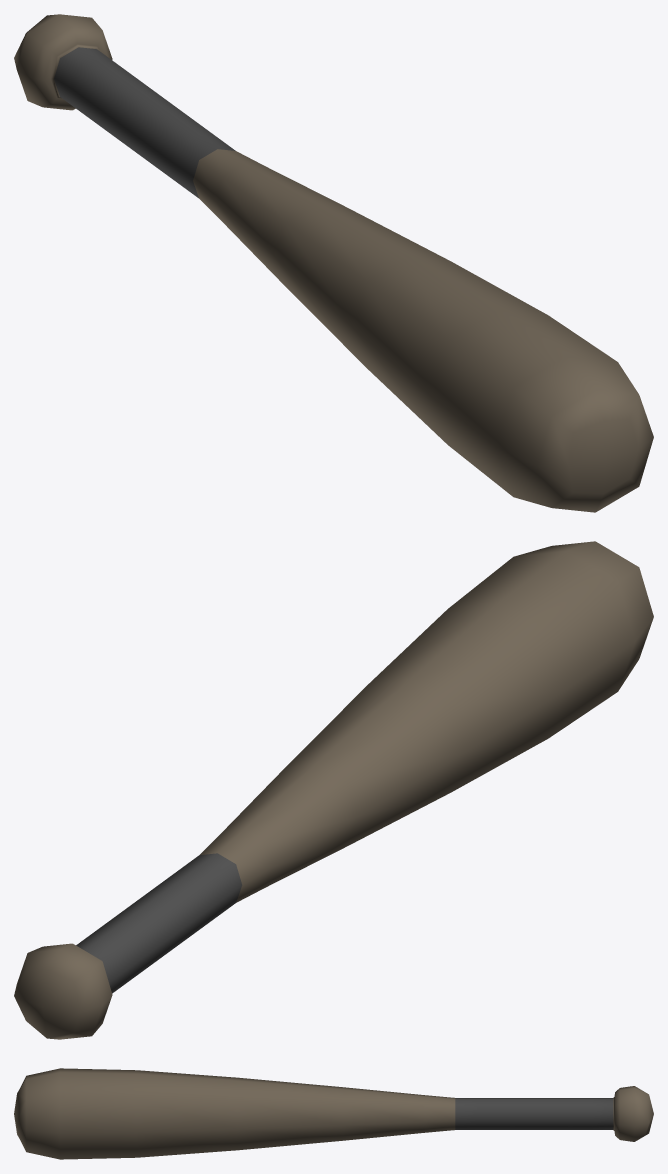
Rendered from Bat.fbx.
3 renders of one model, top to bottom at view 1: azimuth 30°, elevation 25°; view 2: azimuth 150°, elevation 25°; view 3: azimuth 270°, elevation 25°, orthographic. The views are drawn at different scales.
Parts seen in each view (by area): view 1: Bat; view 2: Bat; view 3: Bat.
Boxes of the visible parts, box(x1,y1,x2,y2) form: Bat: box(14, 14, 653, 512); Bat: box(14, 541, 653, 1039); Bat: box(14, 1068, 653, 1159).
Bounding box in the file's own units: 9.37 × 9.37 × 65.58.
